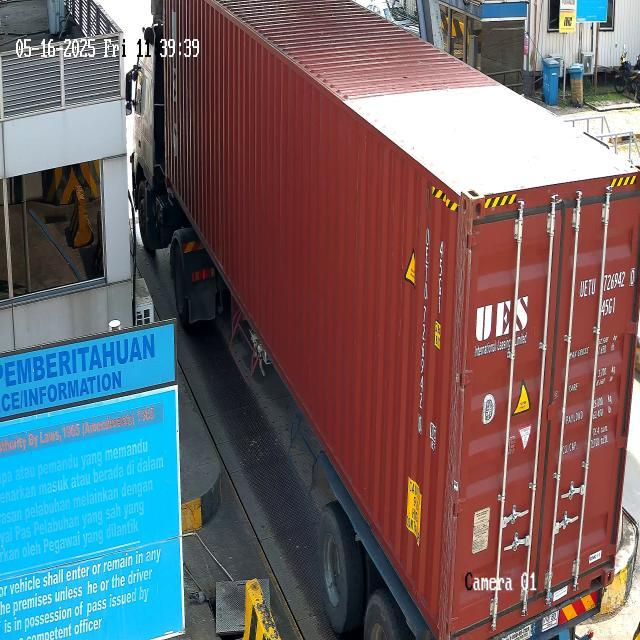ISO: (433, 232, 451, 324), (596, 298, 620, 320)
container_number: (411, 220, 433, 443), (577, 262, 638, 300)
